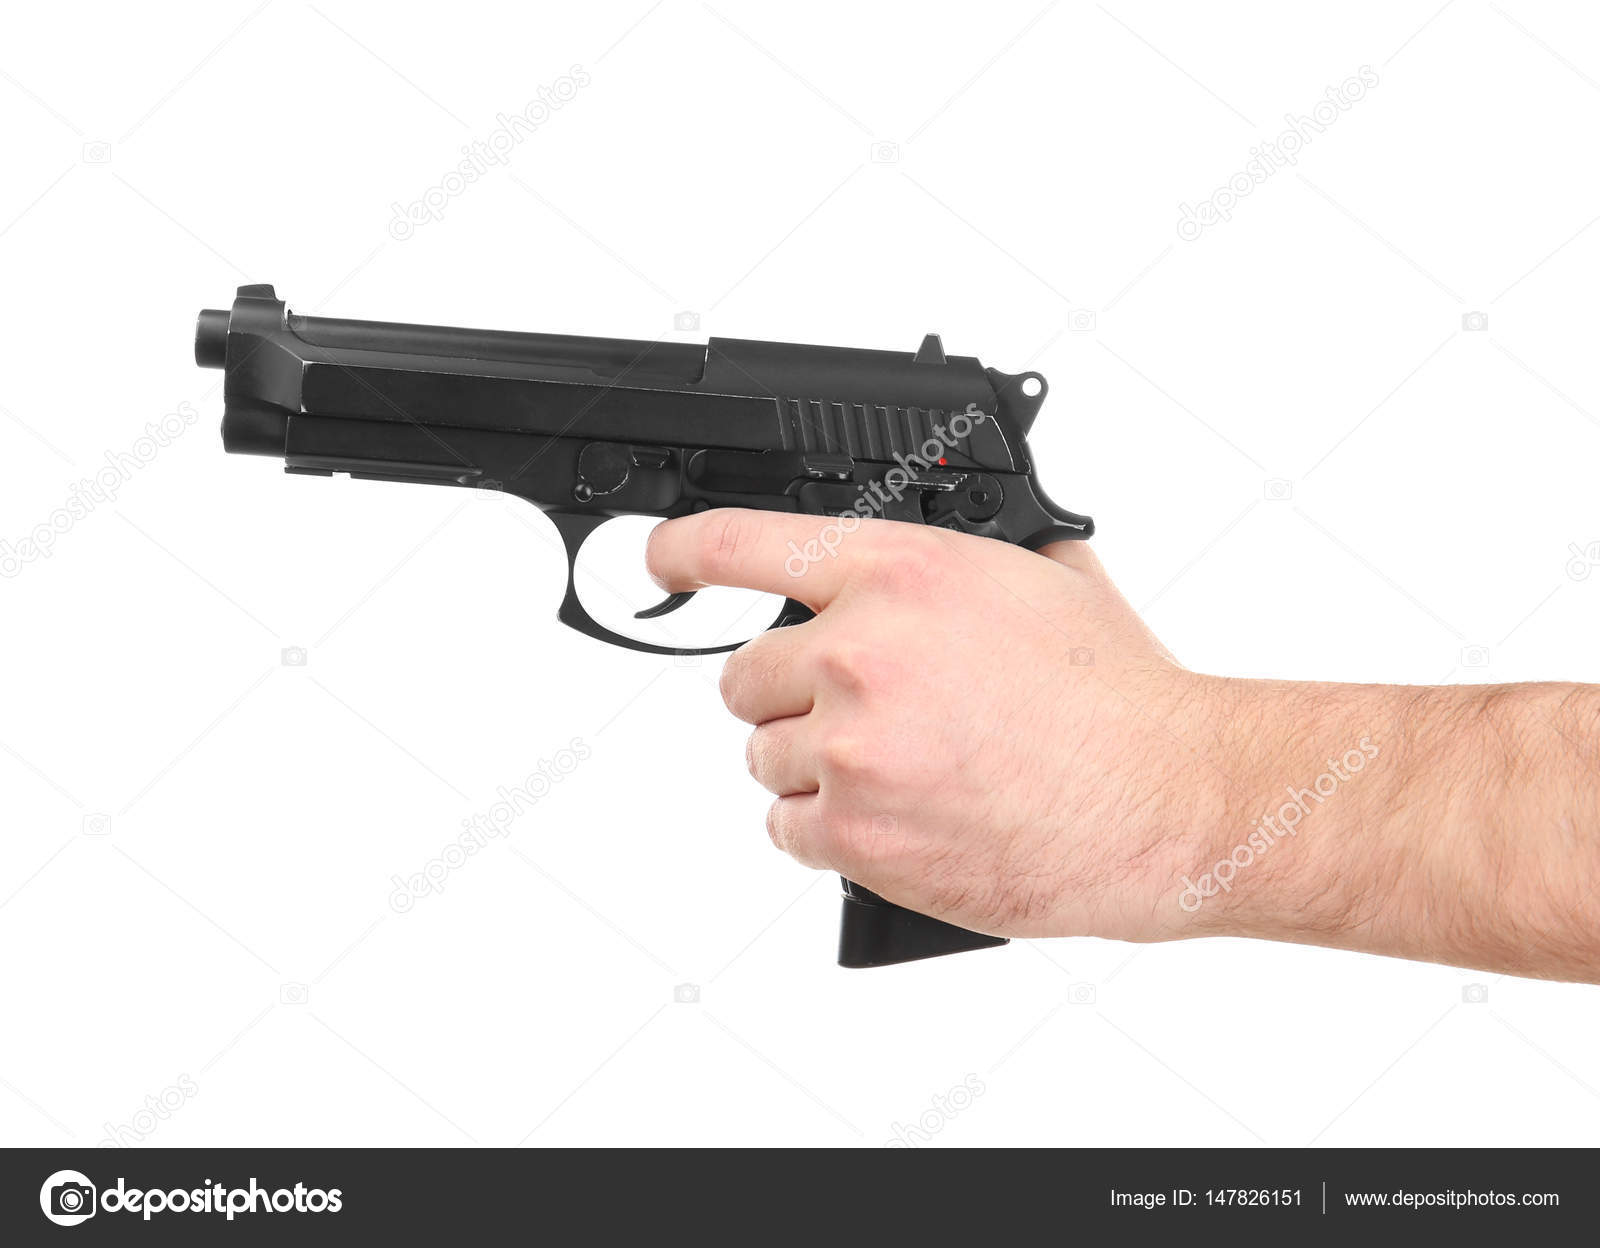pistol: (145, 232, 1299, 1038)
